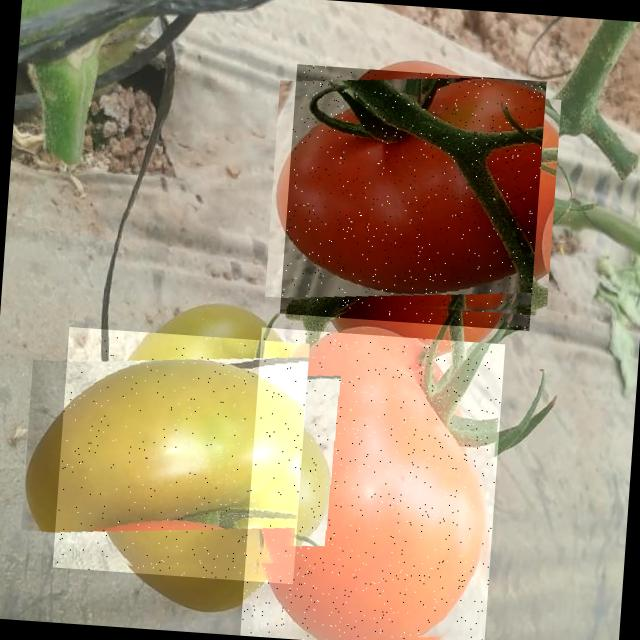Ripe Tomato: (240, 327, 505, 640), (279, 64, 546, 330)
Unripe Tomato: (52, 326, 309, 584)
